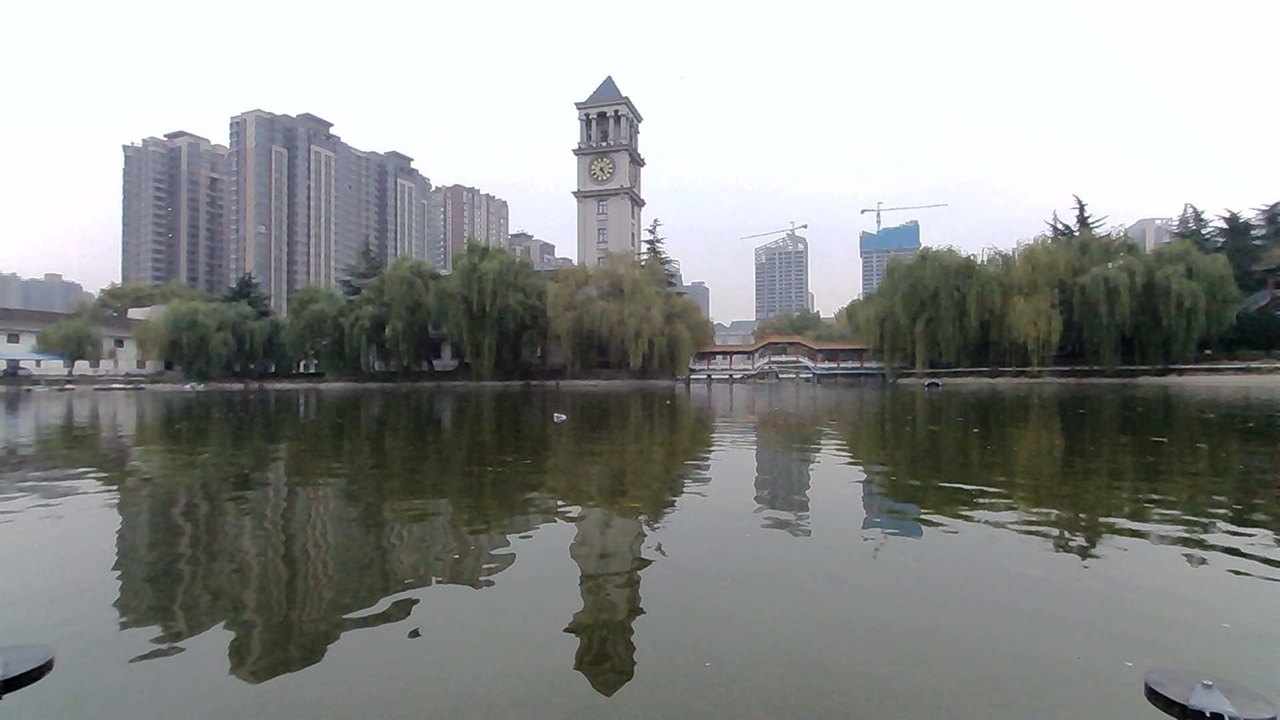bottle: (546, 406, 586, 434)
